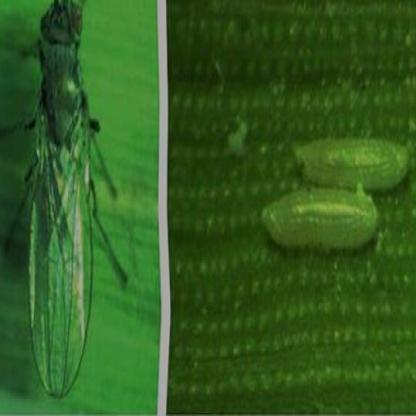whorl-maggot: (256, 183, 381, 258), (294, 126, 412, 194)
